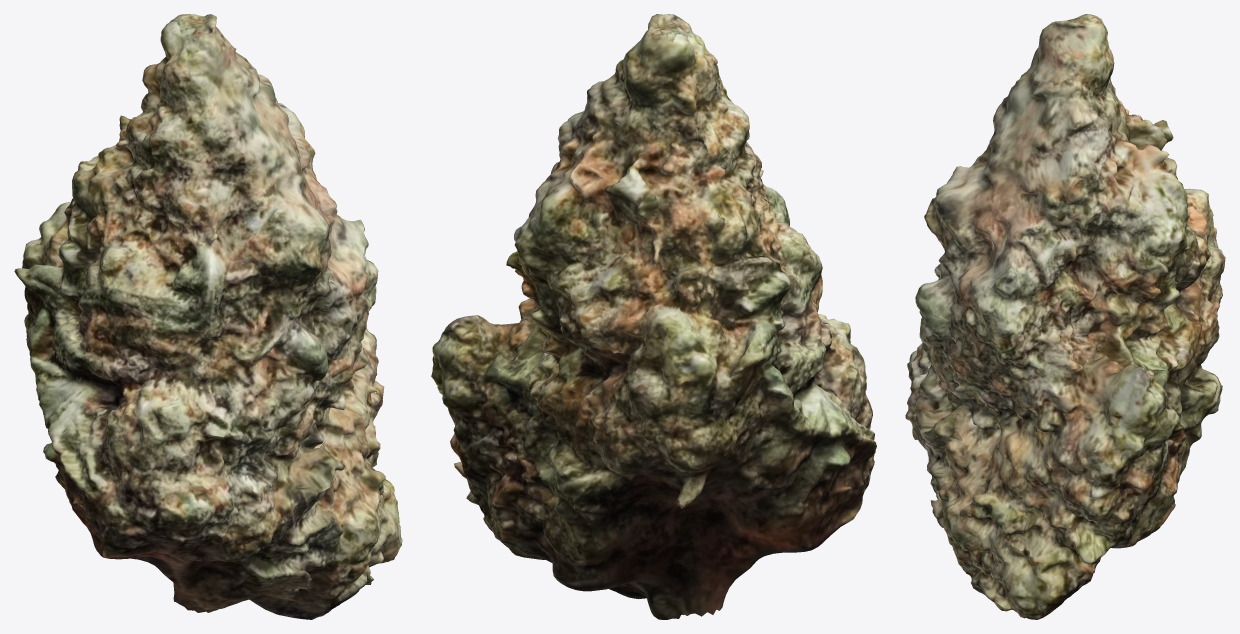
The model's file is weed_nug_1.glb.
The picture shows the model from 3 angles, left to right: view 1: azimuth 30°, elevation 25°; view 2: azimuth 150°, elevation 25°; view 3: azimuth 270°, elevation 25°; orthographic projection. The views are drawn at different scales.
Parts seen in each view (by area): view 1: Object_4; view 2: Object_4; view 3: Object_4.
Boxes of the visible parts, x1,y1,x2,y2 form: Object_4: (14,14,402,619); Object_4: (431,14,876,619); Object_4: (905,14,1225,619).
Bounding box in the file's own units: 0.1344 × 0.2115 × 0.1107.
Materials: 1 (1 with a texture image).
